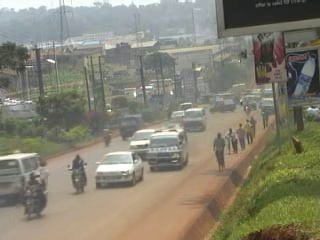Car: (94, 148, 143, 190), (126, 125, 158, 165), (208, 98, 239, 113), (165, 106, 188, 124)
Motorcycle: (22, 175, 53, 220), (66, 155, 88, 194), (101, 125, 114, 147), (243, 100, 251, 115)
